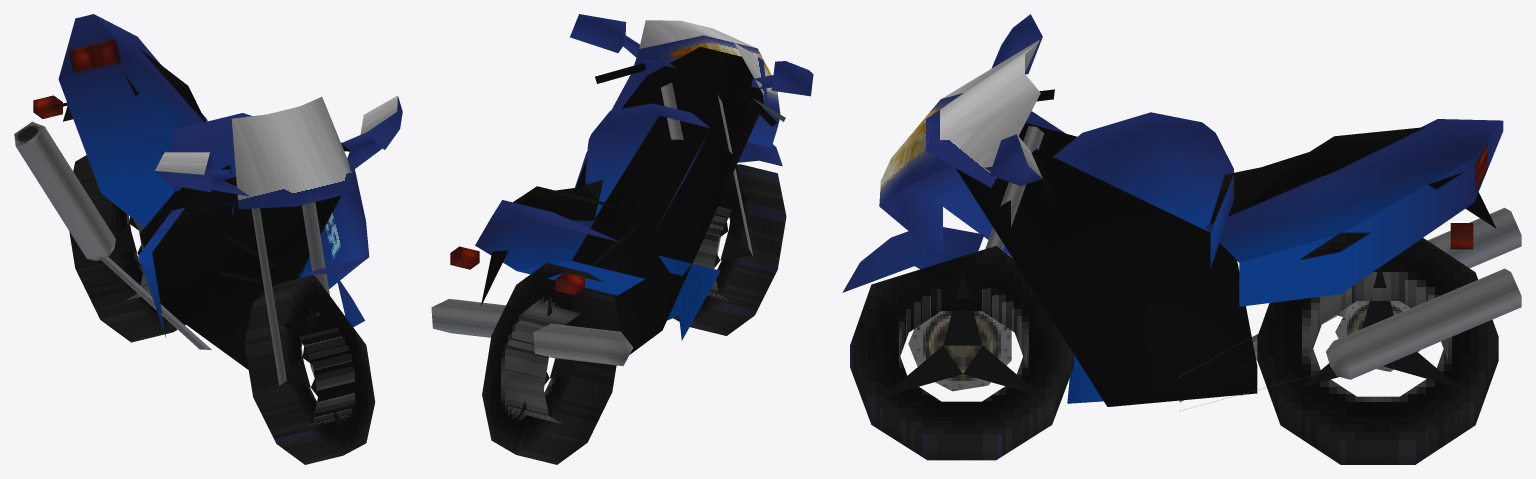
Rendered from ps2_save-icons_ridingspirits.glb.
The picture shows the model from 3 angles, left to right: view 1: azimuth 30°, elevation 25°; view 2: azimuth 150°, elevation 25°; view 3: azimuth 270°, elevation 25°; orthographic projection. The views are drawn at different scales.
Visible parts, largest first — view 1: rs.ico; view 2: rs.ico; view 3: rs.ico.
Boxes of the visible parts, bbox=[...] form: rs.ico: bbox=[14, 14, 402, 464]; rs.ico: bbox=[431, 14, 813, 464]; rs.ico: bbox=[842, 14, 1521, 464].
Size of the model in its own units: 2.19 by 2.79 by 4.42.
Materials: 1 (1 with a texture image).
